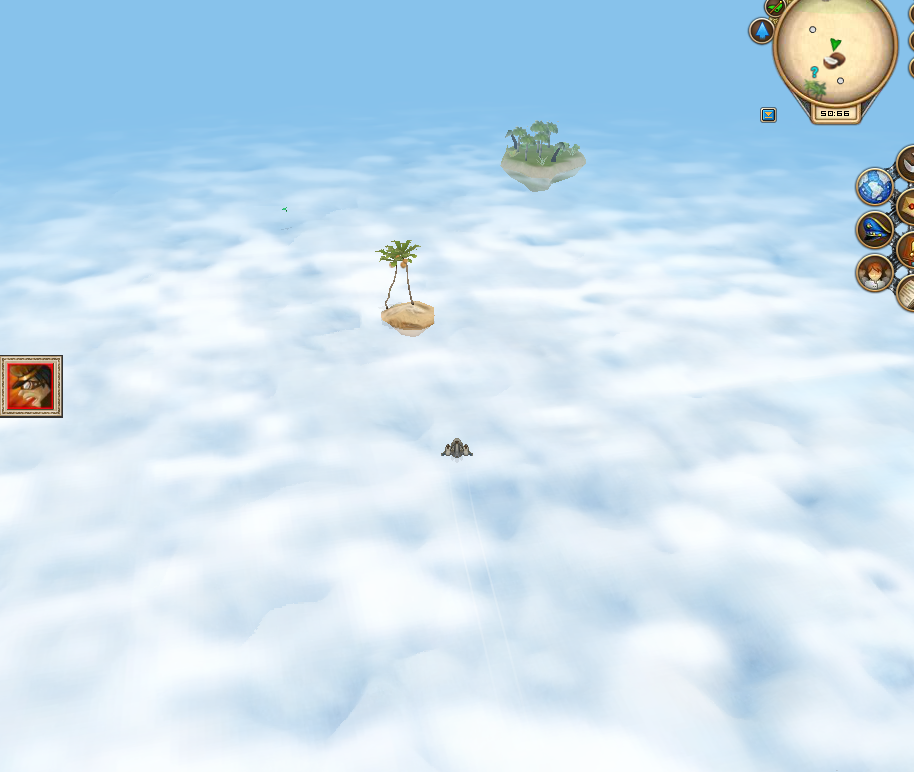palm: (370, 239, 441, 338)
